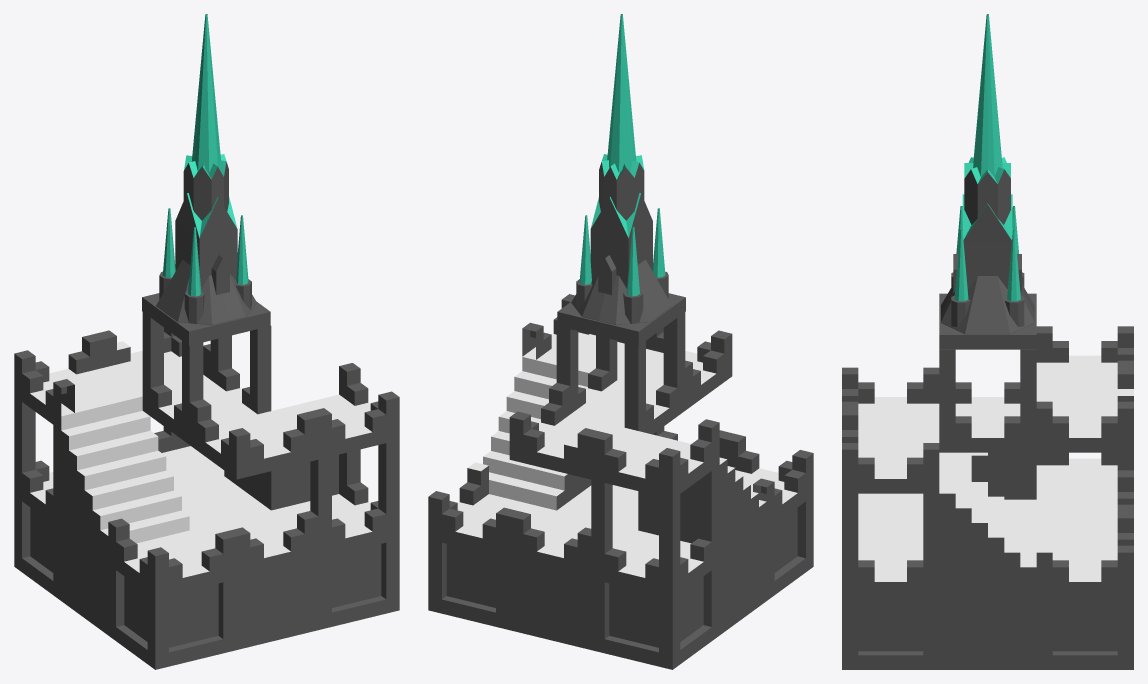
File: tower-small.glb
The picture shows the model from 3 angles, left to right: view 1: azimuth 30°, elevation 25°; view 2: azimuth 150°, elevation 25°; view 3: azimuth 270°, elevation 25°; orthographic projection. The views are drawn at different scales.
Visible parts, largest first — view 1: level; view 2: level; view 3: level.
Part boxes in pixels (bbox=[...]): level: bbox=[14, 14, 399, 669]; level: bbox=[428, 14, 813, 669]; level: bbox=[842, 14, 1133, 669].
Size of what is drawn, in the model's own units: 3 by 6.74 by 3.
